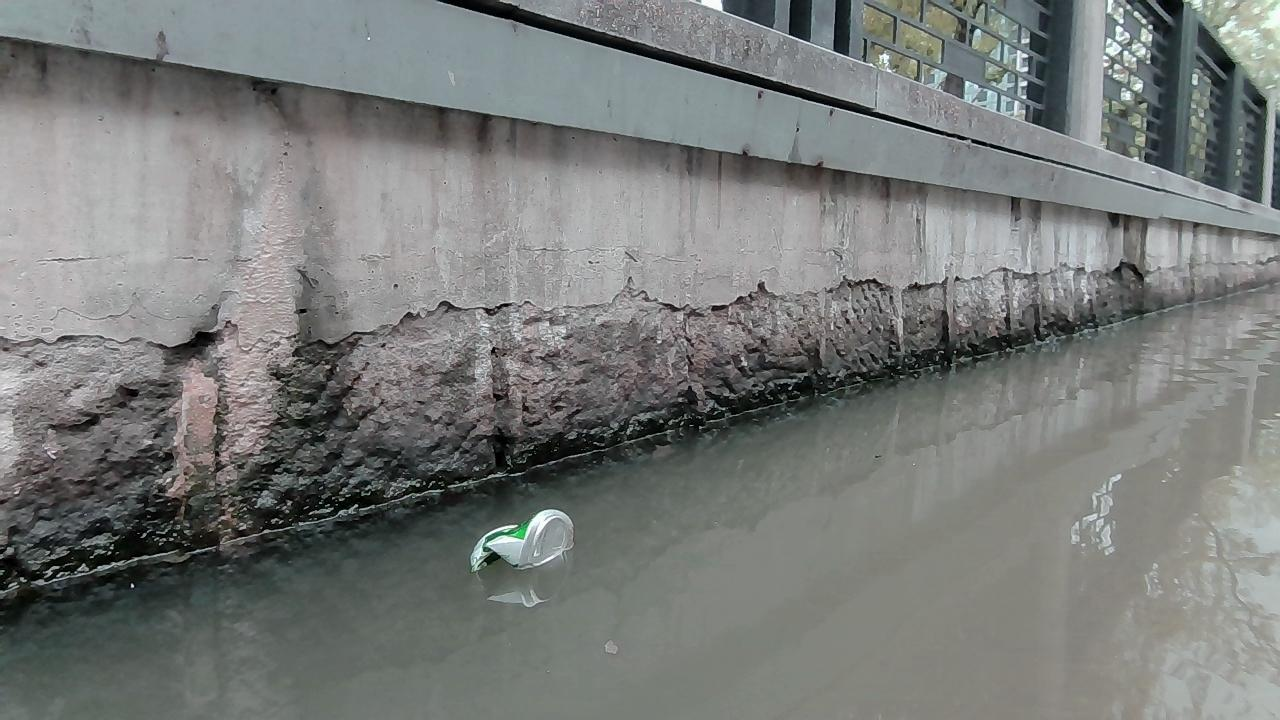Metal: (468, 507, 577, 574)
